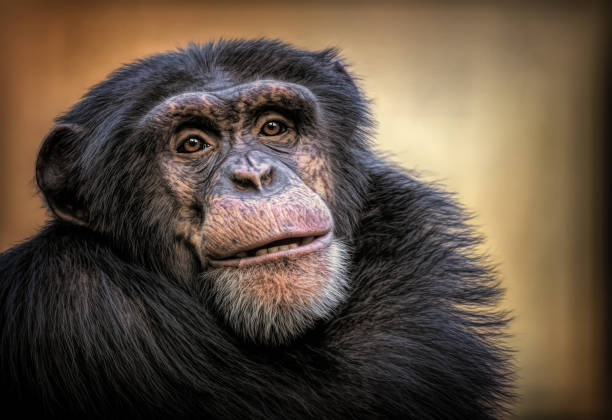chimpanzee: (12, 20, 450, 378)
